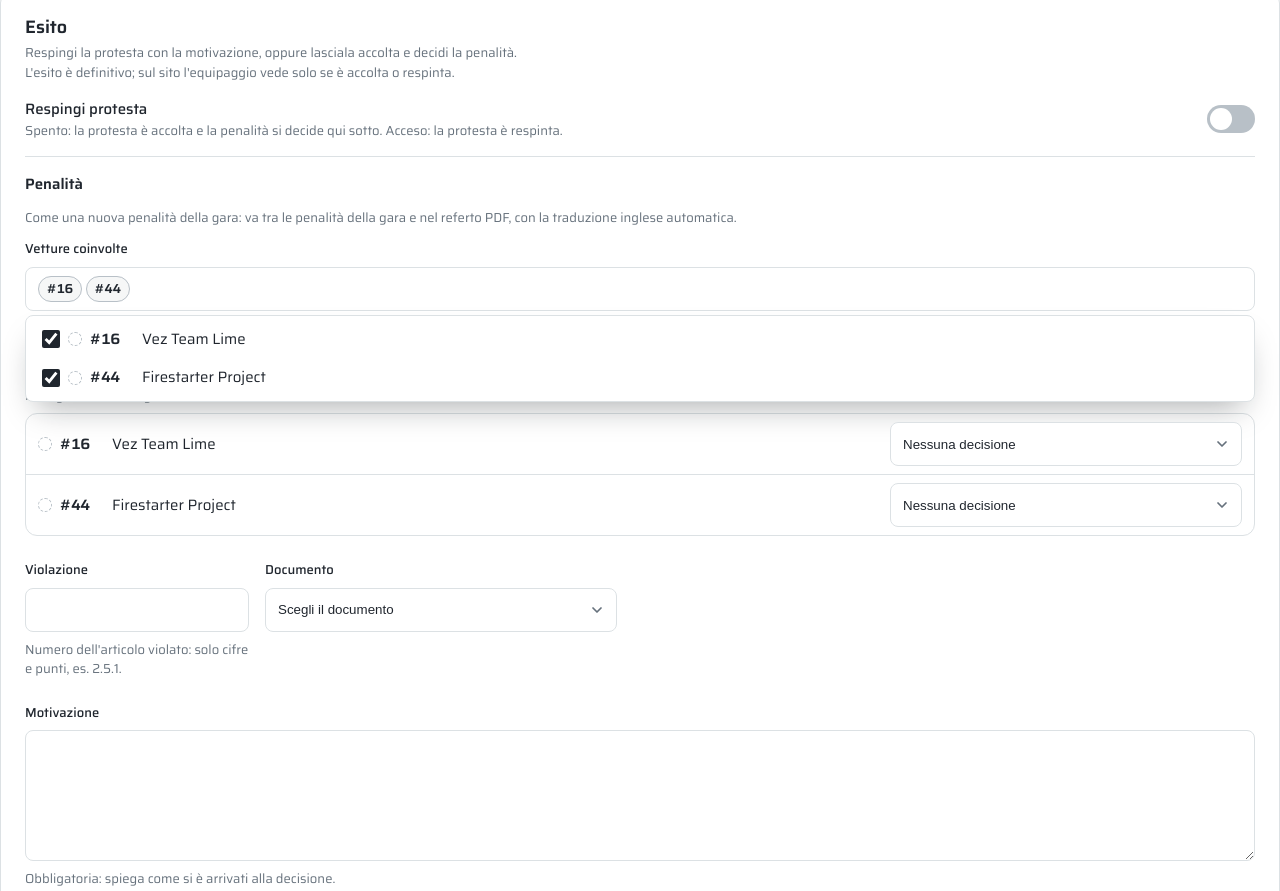
Test: Esito della protesta › accolta: vetture della protesta già compilate; violazione, documento e motivazione obbligatori
Later steps or results of the test are not shown.
expect the button named "Vetture coinvolte" is disabled: met, box top-left (25, 267), bottom-right (1255, 311)
expect the dropdown named "Decisione per la vettura #16" is shown: met, box top-left (890, 422), bottom-right (1242, 466)
Select "+5 secondi" in the dropdown named "Decisione per la vettura #44" at (1066, 505), box top-left (890, 483), bottom-right (1242, 527)
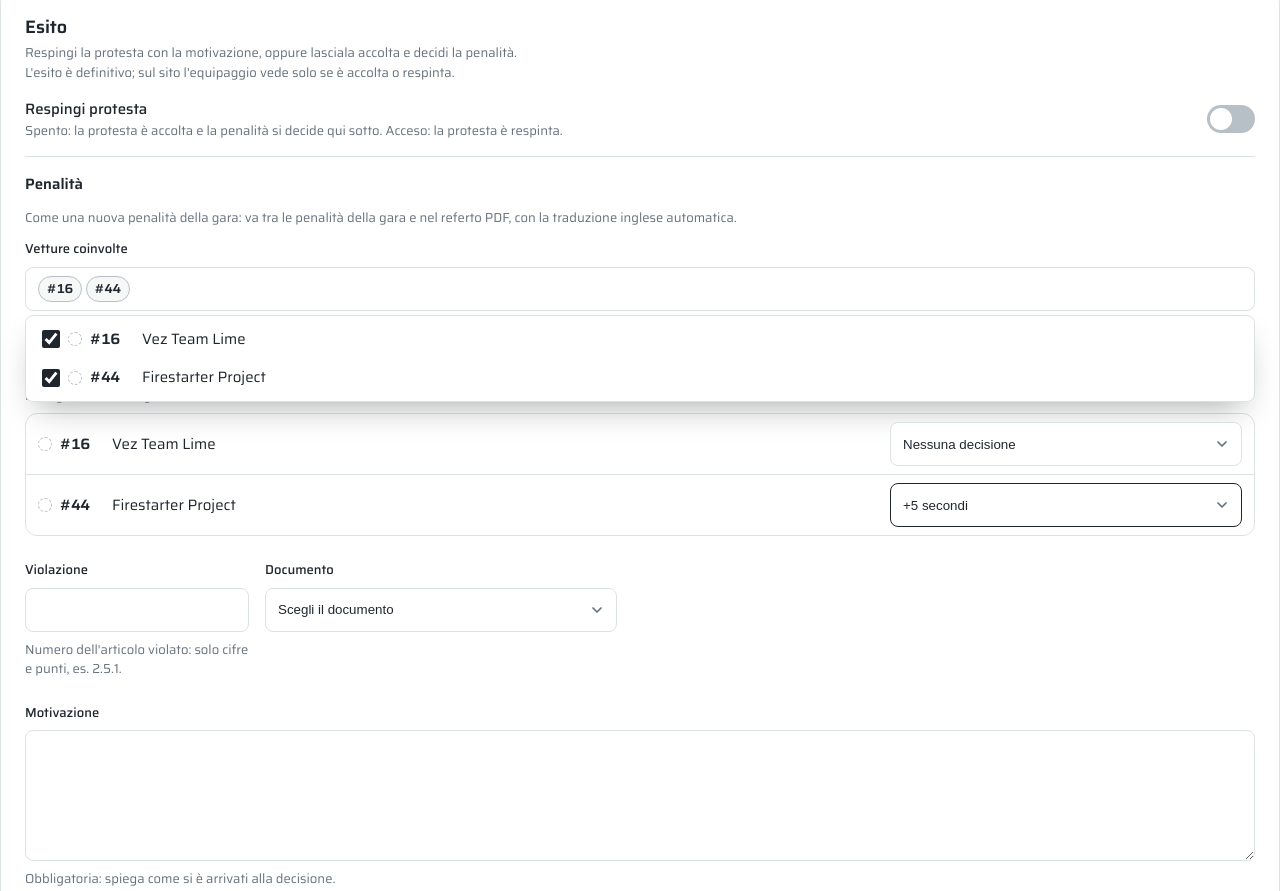
Type "2.5.1" into the field labelled "Violazione" at (137, 610), box top-left (25, 588), bottom-right (249, 632)
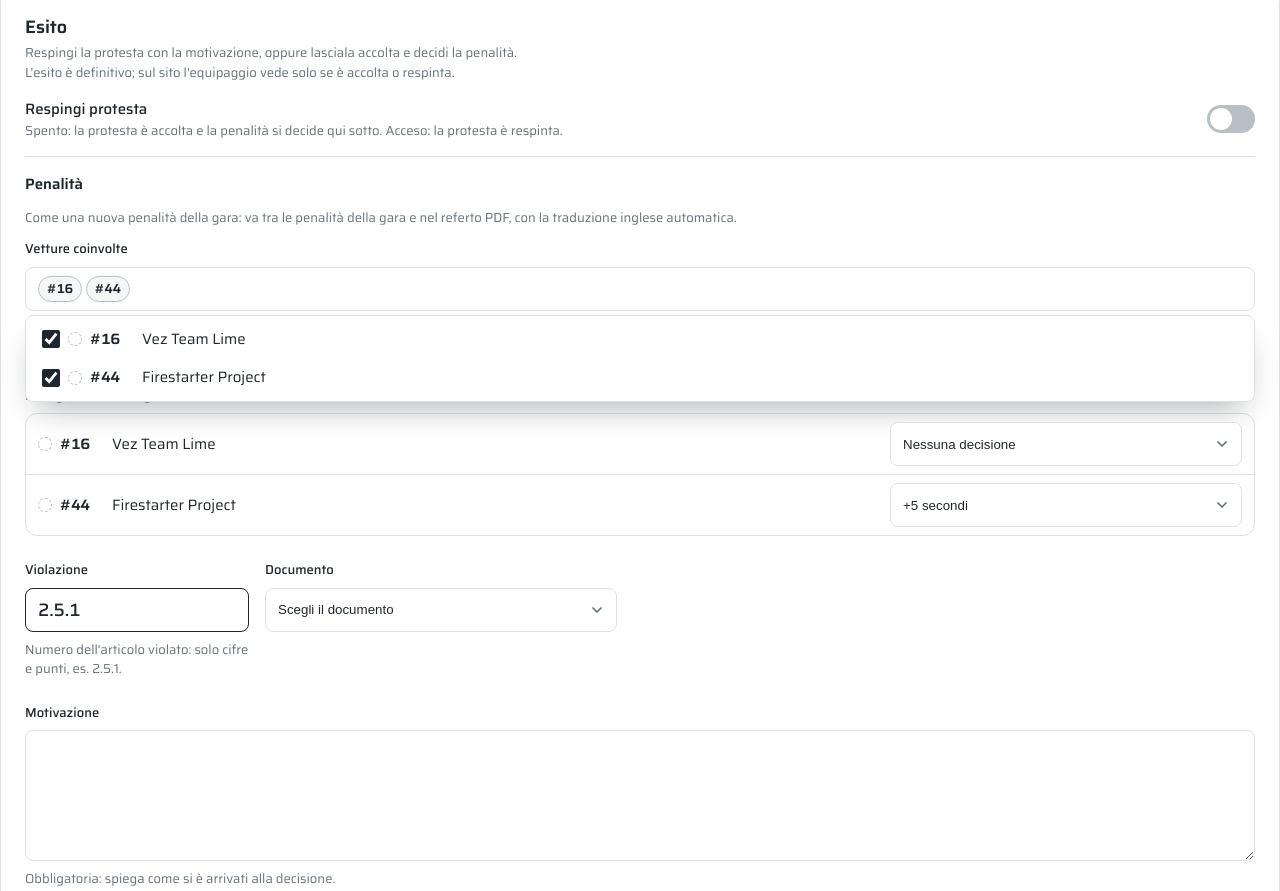
Select "Codice di Condotta" in the dropdown labelled "Documento" at (441, 610), box top-left (265, 588), bottom-right (617, 632)
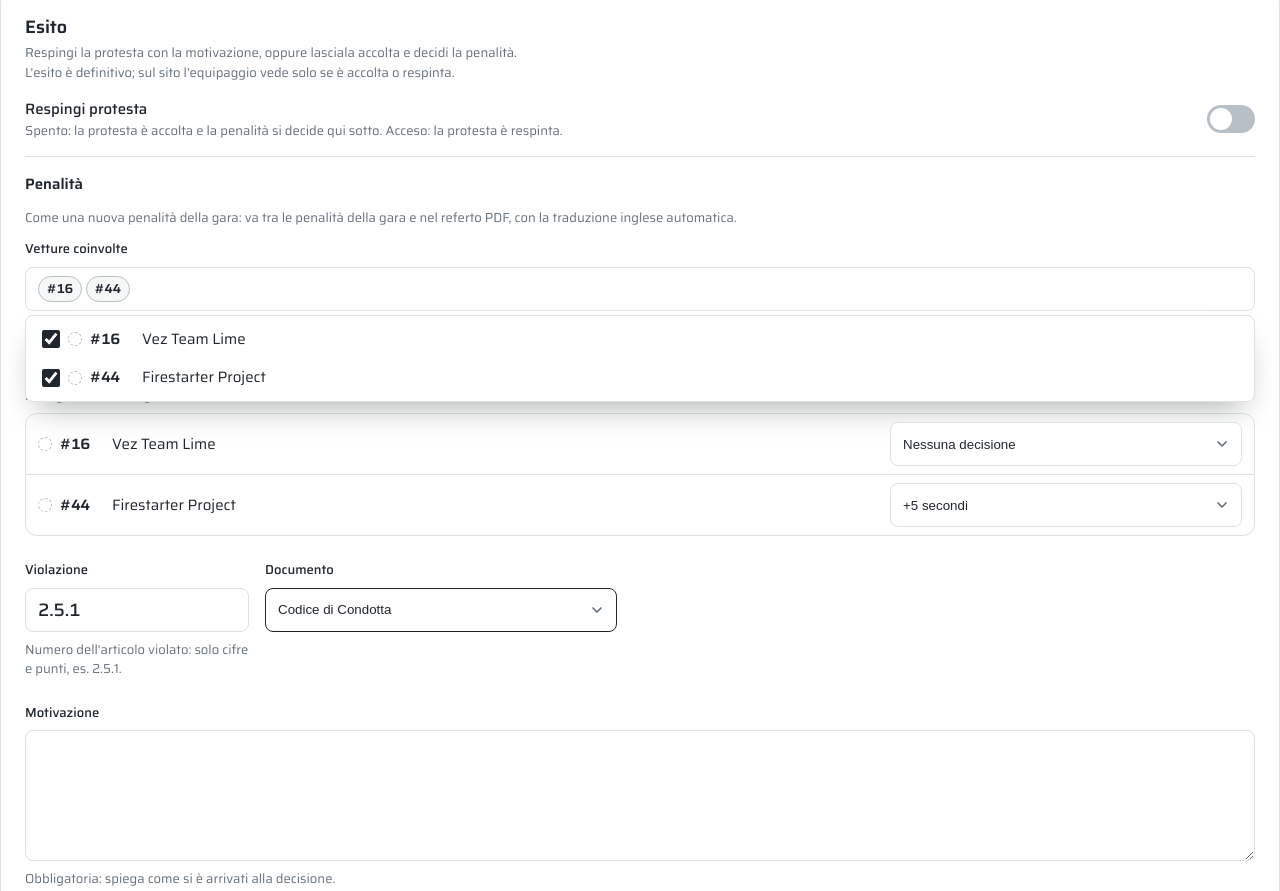
Type "Tamponamento." into the text box labelled "Motivazione" at (640, 796), box top-left (25, 730), bottom-right (1255, 861)
(page scrolled)
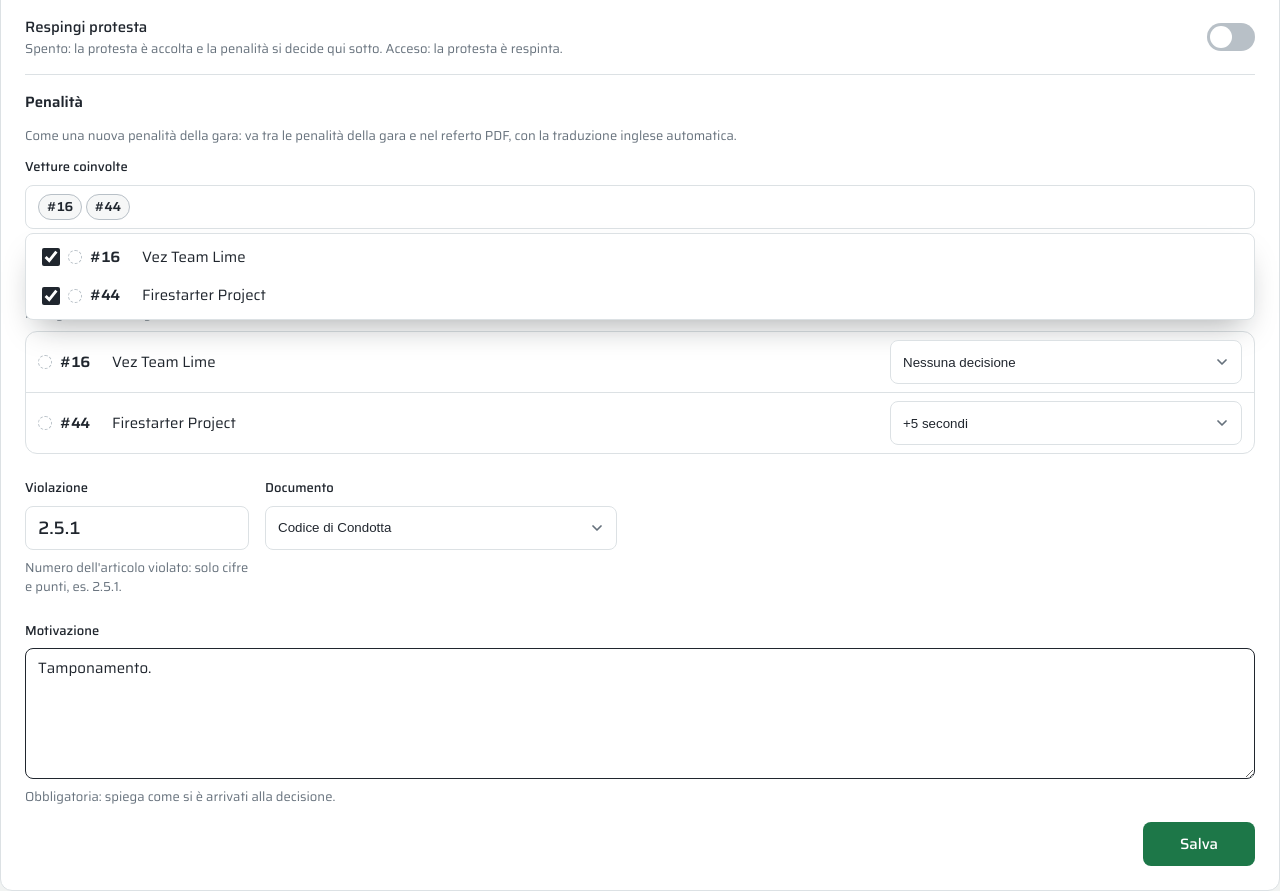
expect the button "Salva" is enabled: met, box top-left (1143, 822), bottom-right (1255, 866)
